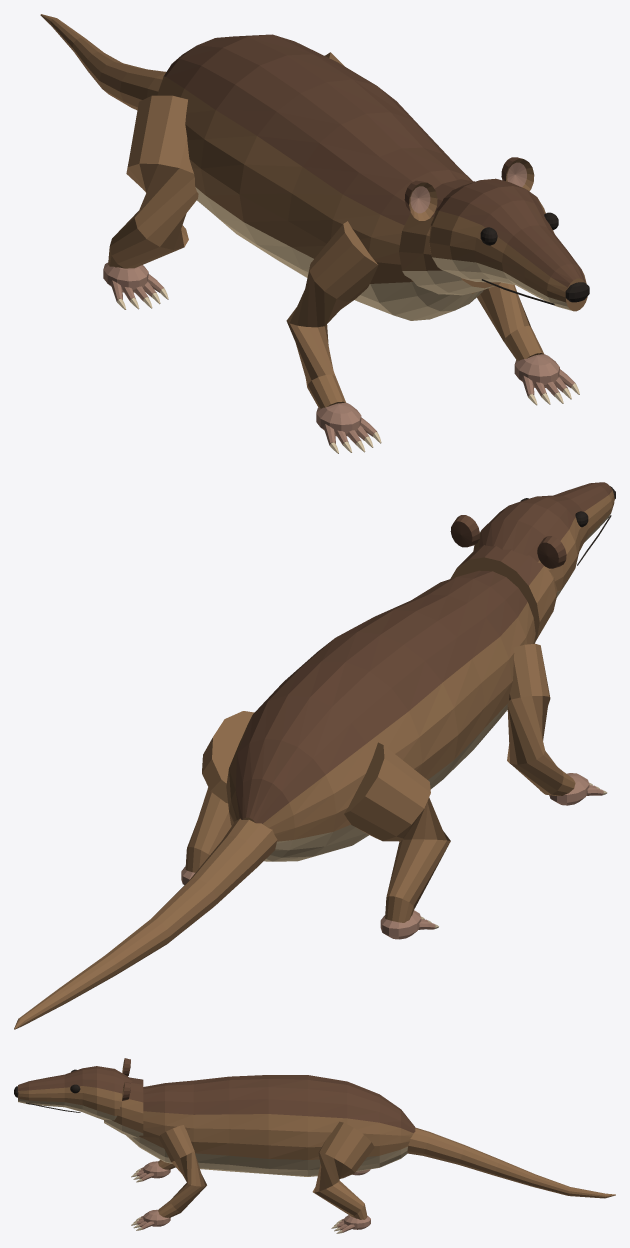
3 views of the same model, one above another, from view 1: azimuth 30°, elevation 25°; view 2: azimuth 150°, elevation 25°; view 3: azimuth 270°, elevation 25° (orthographic). The views are drawn at different scales.
Parts seen in each view (by area): view 1: elongated-low-torso, long-low-skull-and-muzzle, left-hindlimb, left-forelimb, slender-tapering-balancing-tail, tapered-neck, right-forelimb, small-rounded-inferred-ears, left-fore-five-digits, right-fore-five-digits, left-hind-five-digits; view 2: elongated-low-torso, left-hindlimb, slender-tapering-balancing-tail, long-low-skull-and-muzzle, left-forelimb, right-hindlimb, tapered-neck, small-rounded-inferred-ears, left-hind-five-digits, left-fore-five-digits; view 3: elongated-low-torso, long-low-skull-and-muzzle, slender-tapering-balancing-tail, right-hindlimb, right-forelimb, tapered-neck, right-fore-five-digits, left-fore-five-digits, right-hind-five-digits, small-rounded-inferred-ears.
Part boxes in pixels (<box>): elongated-low-torso: <box>157,34,483,320</box>; long-low-skull-and-muzzle: <box>429,178,587,311</box>; left-hindlimb: <box>108,95,198,268</box>; left-forelimb: <box>286,221,378,408</box>; slender-tapering-balancing-tail: <box>40,14,165,110</box>; tapered-neck: <box>399,179,500,295</box>; right-forelimb: <box>477,282,543,360</box>; small-rounded-inferred-ears: <box>404,157,534,220</box>; left-fore-five-digits: <box>316,402,376,445</box>; right-fore-five-digits: <box>514,354,575,397</box>; left-hind-five-digits: <box>103,262,163,301</box>; elongated-low-torso: <box>226,570,535,861</box>; left-hindlimb: <box>344,742,450,922</box>; slender-tapering-balancing-tail: <box>14,818,277,1029</box>; long-low-skull-and-muzzle: <box>473,482,614,597</box>; left-forelimb: <box>507,643,575,795</box>; right-hindlimb: <box>185,711,254,872</box>; tapered-neck: <box>450,545,557,642</box>; small-rounded-inferred-ears: <box>450,515,566,568</box>; left-hind-five-digits: <box>380,910,435,939</box>; left-fore-five-digits: <box>549,773,603,805</box>; elongated-low-torso: <box>126,1075,415,1176</box>; long-low-skull-and-muzzle: <box>18,1066,132,1120</box>; slender-tapering-balancing-tail: <box>407,1127,615,1198</box>; right-hindlimb: <box>312,1121,374,1219</box>; right-forelimb: <box>158,1125,206,1217</box>; tapered-neck: <box>104,1077,143,1137</box>; right-fore-five-digits: <box>136,1209,170,1229</box>; left-fore-five-digits: <box>136,1161,170,1180</box>; right-hind-five-digits: <box>337,1215,370,1232</box>; small-rounded-inferred-ears: <box>122,1058,130,1100</box>.
Bounding box in the file's own units: 0.0438 × 0.041 × 0.1682.
